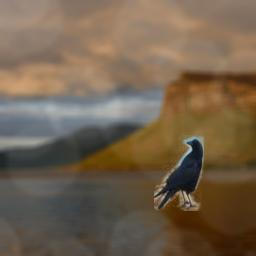Crow: (154, 135, 204, 211)
